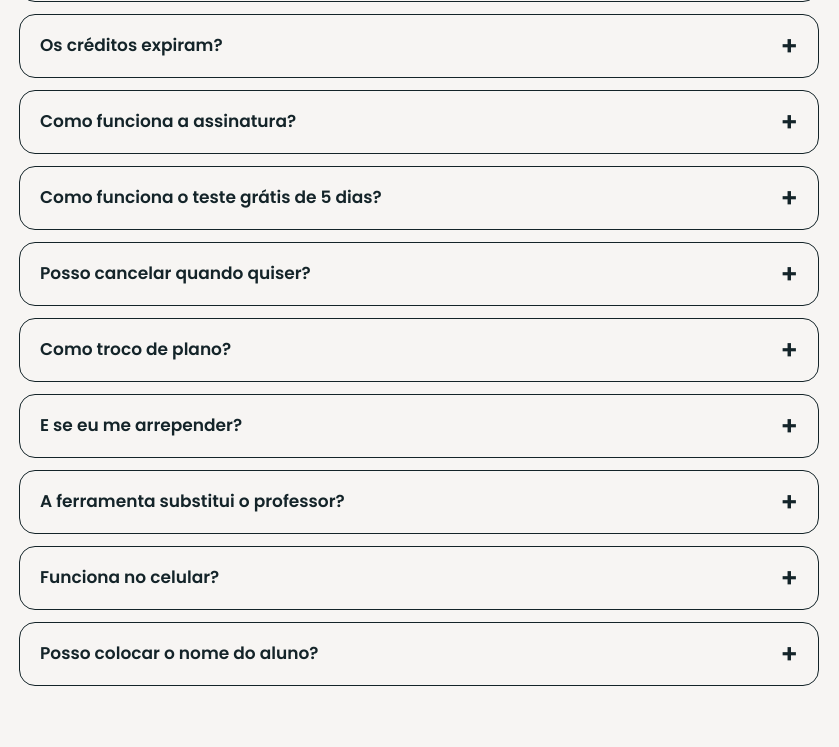
Test: FaqSection › answers the mobile question without promising the full editor
(page scrolled)
Click the button "Funciona no celular? +": (130, 577) [20,547,818,609]
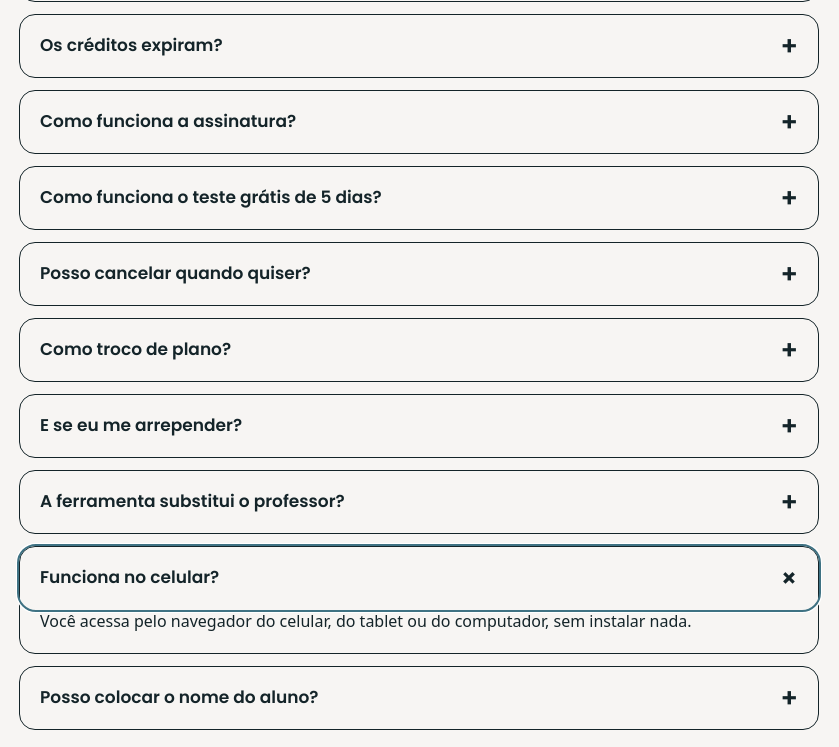
Check: the text "navegador do celular" is shown, box [40,610,692,632]
